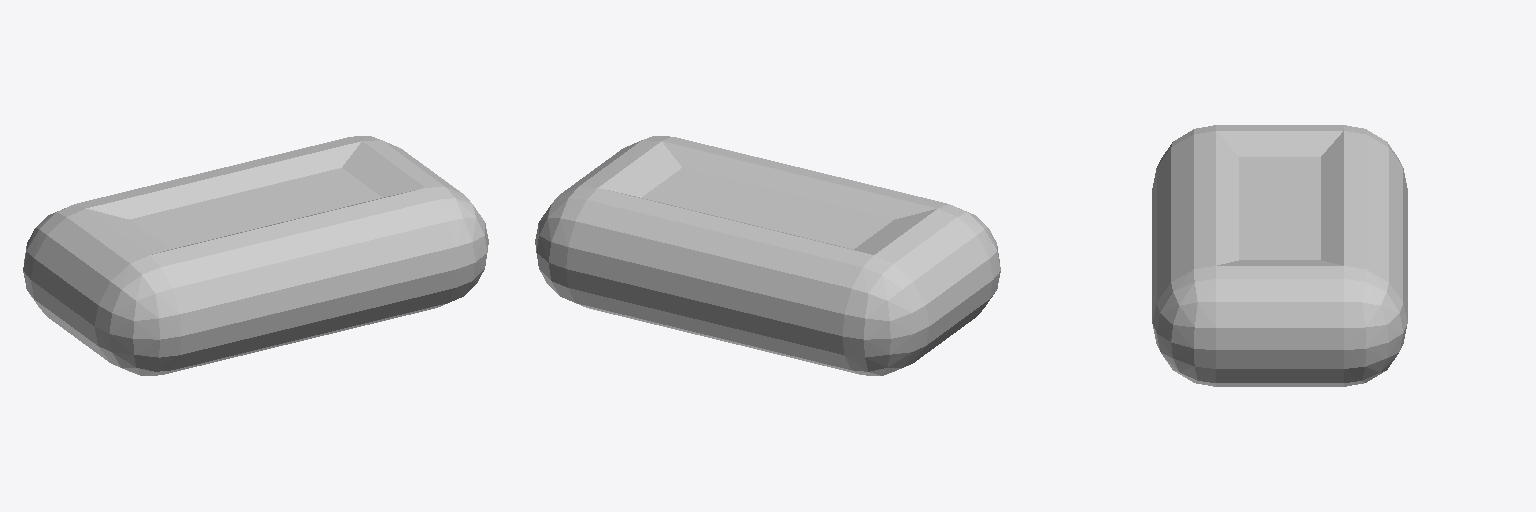
Rendered from soap.obj.
The picture shows the model from 3 angles: view 1: azimuth 30°, elevation 25°; view 2: azimuth 150°, elevation 25°; view 3: azimuth 270°, elevation 25°; orthographic projection.
Visible parts, largest first — view 1: Roundcube; view 2: Roundcube; view 3: Roundcube.
Part boxes in pixels (left/top/right/bottom): Roundcube: left=23, top=136, right=488, bottom=375; Roundcube: left=535, top=136, right=1000, bottom=375; Roundcube: left=1152, top=125, right=1407, bottom=386.
Bounding box in the file's own units: 7 × 2 × 4.